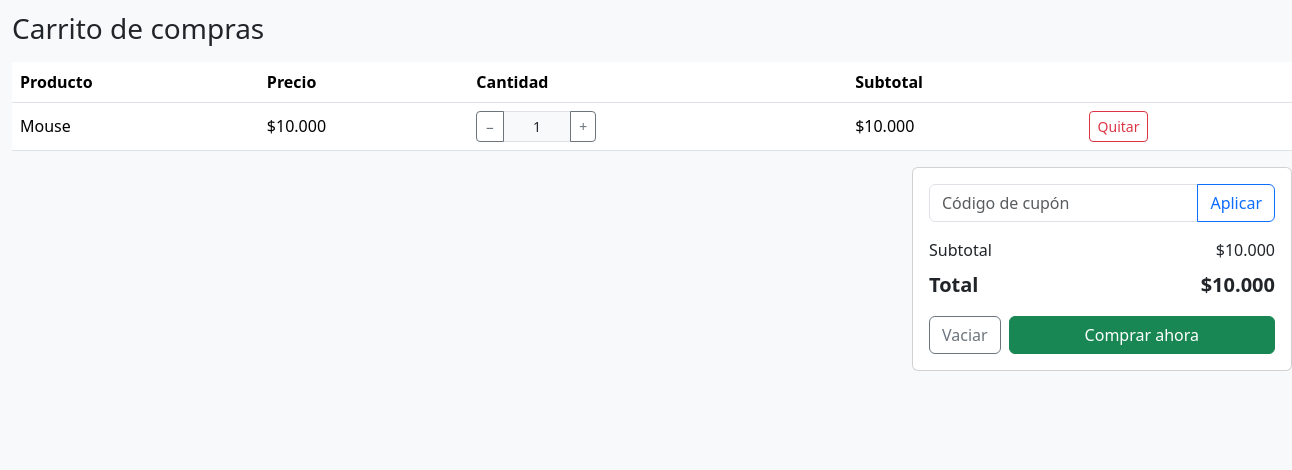
Test: Carrito (página) › un cupón válido aplica el descuento y uno inválido muestra error
The width and height of the screenshot is (1292, 470).
Type "FALSO" into the field labelled "Código de cupón". click: (1064, 203)
box: [929, 184, 1198, 222]
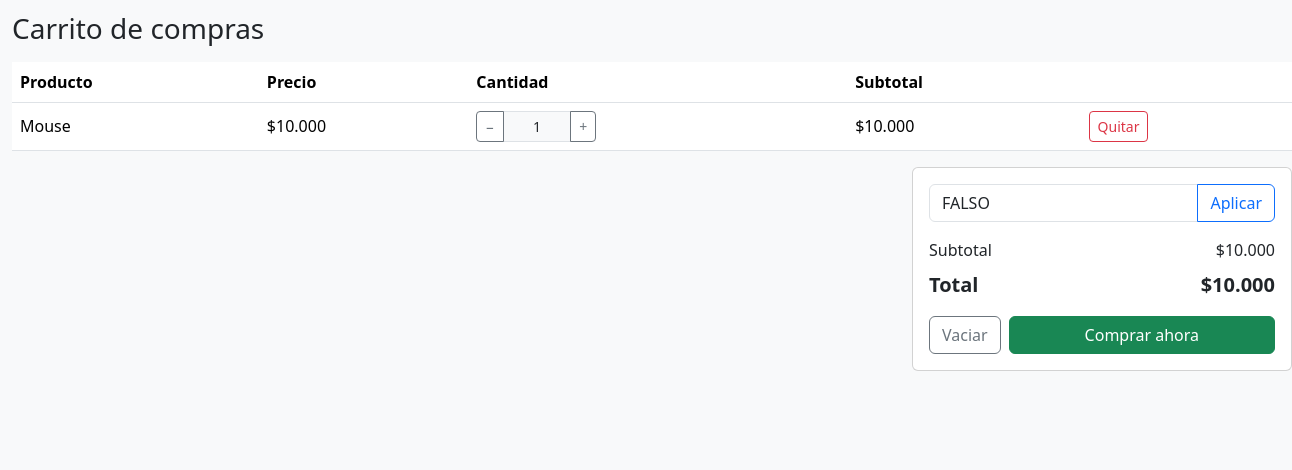
Click the button "Aplicar". click: (1236, 203)
box: [1197, 184, 1275, 222]
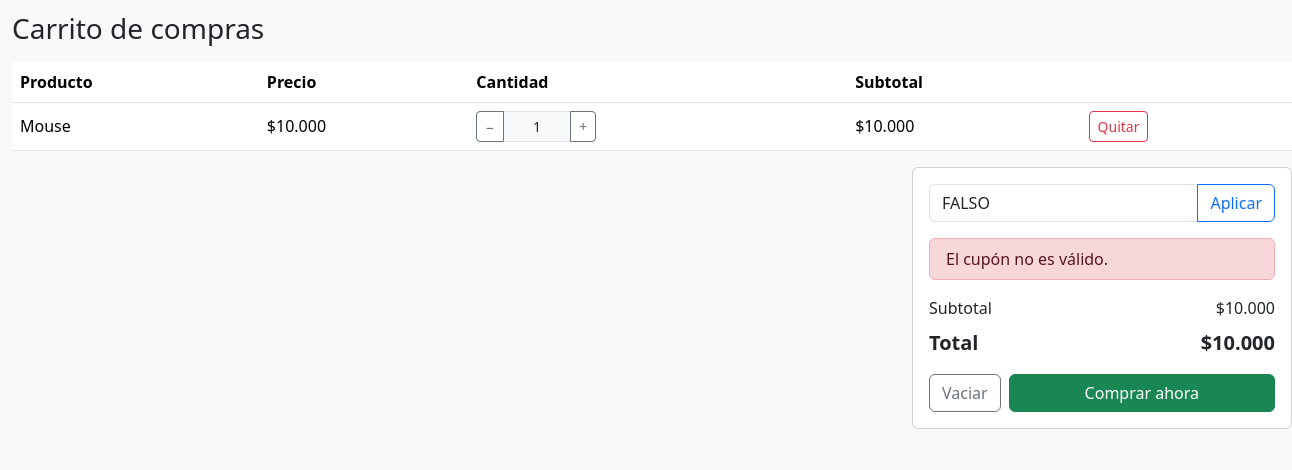
Check: the text "El cupón no es válido." is shown, box [929, 238, 1275, 280]
Replace the text in the field named "Código de cupón" with "nexo10". click: (1064, 203)
box: [929, 184, 1198, 222]
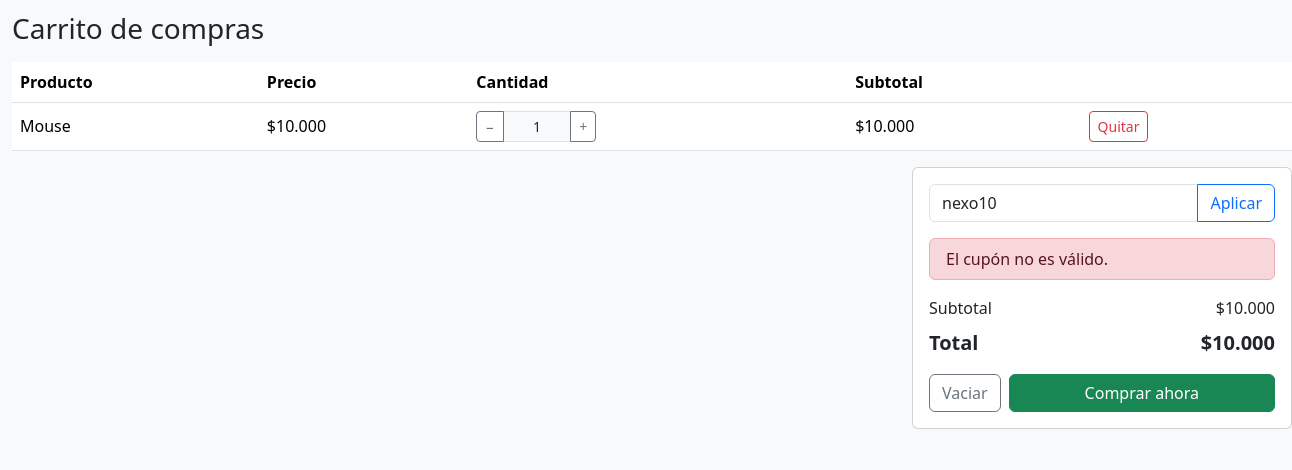
Click the button "Aplicar". click: (1236, 203)
box: [1197, 184, 1275, 222]
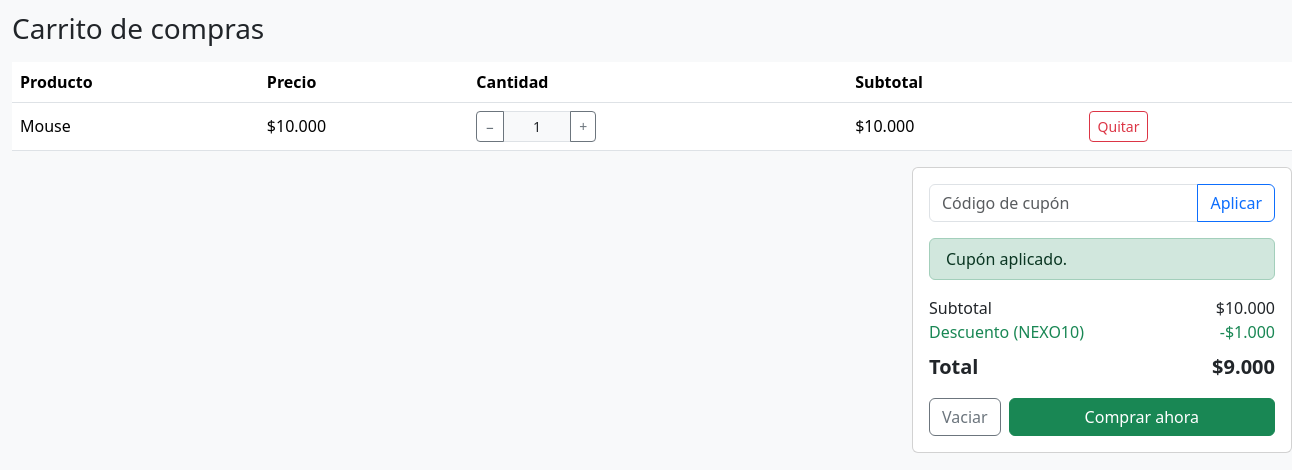
Check: the text "Cupón aplicado." is shown, box [929, 238, 1275, 280]
